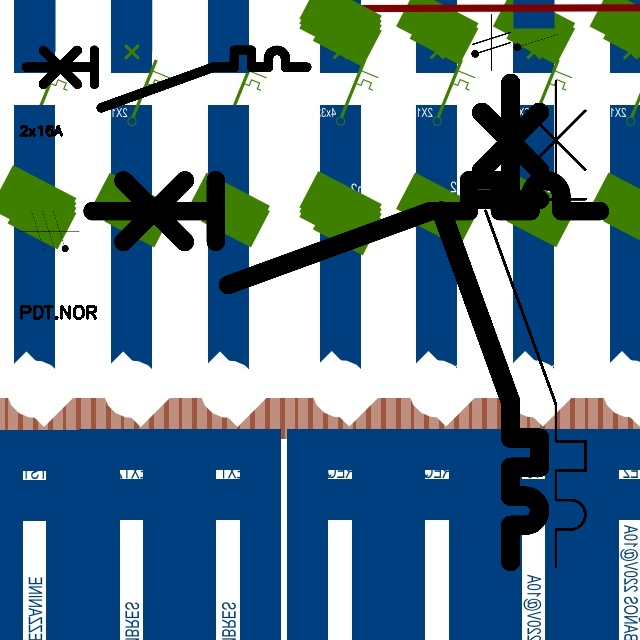interruptor_termomagnetico: (79, 167, 613, 297), (473, 68, 598, 578), (429, 70, 552, 573), (19, 43, 314, 115)
